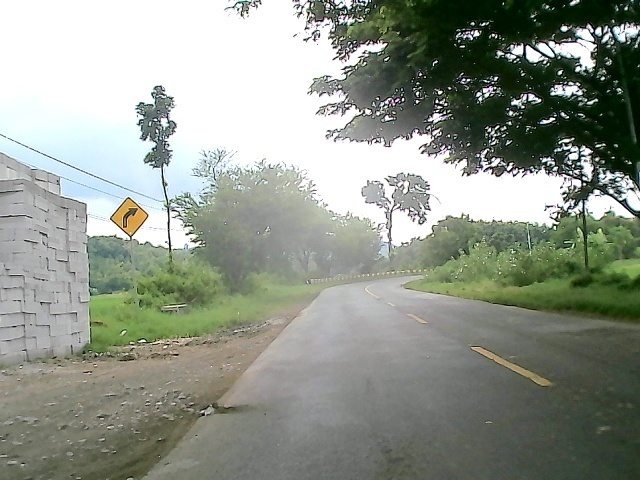Tikungan ke kanan: (107, 197, 152, 239)
